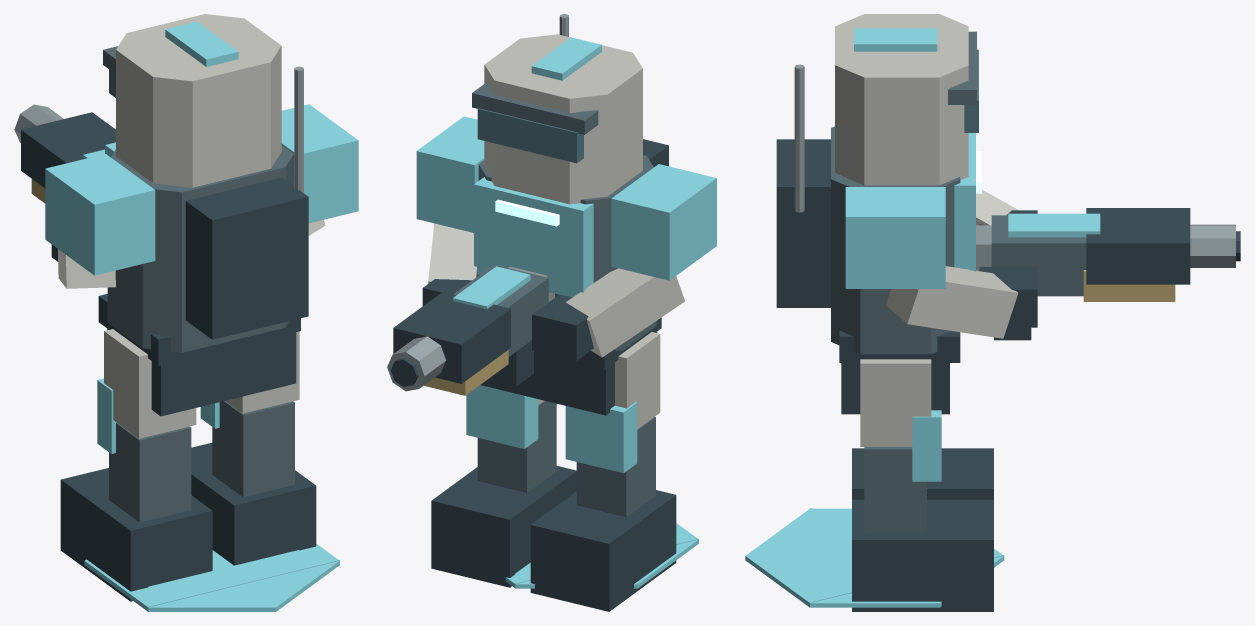
File: fighter-shotgun-low.glb
3 renders of one model, left to right at view 1: azimuth 30°, elevation 25°; view 2: azimuth 150°, elevation 25°; view 3: azimuth 270°, elevation 25°, orthographic. The views are drawn at different scales.
Parts seen in each view (by area): view 1: asset_fighter-shotgun__FP_Baked, leg_left__FP_Baked, asset_fighter-shotgun__FP_Team, leg_right__FP_Baked, weapon__FP_Baked, Hexagon, Triangle, knee; view 2: asset_fighter-shotgun__FP_Baked, asset_fighter-shotgun__FP_Team, leg_left__FP_Baked, leg_right__FP_Baked, weapon__FP_Baked, knee, knee.001, accent, Hexagon, chest_light; view 3: asset_fighter-shotgun__FP_Baked, leg_right__FP_Baked, weapon__FP_Baked, asset_fighter-shotgun__FP_Team, Hexagon, leg_left__FP_Baked, Triangle, accent, knee.001.
Part boxes in pixels (<box>): asset_fighter-shotgun__FP_Baked: <box>51,14,325,416</box>; leg_left__FP_Baked: <box>60,329,212,601</box>; asset_fighter-shotgun__FP_Team: <box>45,21,358,275</box>; leg_right__FP_Baked: <box>191,331,316,565</box>; weapon__FP_Baked: <box>14,104,115,203</box>; Hexagon: <box>84,544,339,611</box>; Triangle: <box>148,550,339,607</box>; knee: <box>97,378,116,453</box>; asset_fighter-shotgun__FP_Baked: <box>422,14,684,415</box>; asset_fighter-shotgun__FP_Team: <box>416,37,716,297</box>; leg_left__FP_Baked: <box>530,332,676,611</box>; leg_right__FP_Baked: <box>431,399,576,587</box>; weapon__FP_Baked: <box>387,264,554,395</box>; knee: <box>565,402,637,473</box>; knee.001: <box>466,385,538,448</box>; accent: <box>453,266,530,309</box>; Hexagon: <box>505,523,698,588</box>; chest_light: <box>495,199,559,226</box>; asset_fighter-shotgun__FP_Baked: <box>776,14,1037,414</box>; leg_right__FP_Baked: <box>852,359,993,611</box>; weapon__FP_Baked: <box>976,208,1240,340</box>; asset_fighter-shotgun__FP_Team: <box>845,28,975,288</box>; Hexagon: <box>745,508,1004,607</box>; leg_left__FP_Baked: <box>852,448,993,499</box>; Triangle: <box>810,508,1004,603</box>; accent: <box>1008,213,1100,237</box>; knee.001: <box>912,410,941,481</box>.
Size of the model in its own units: 0.74 by 1.4 by 1.19.
